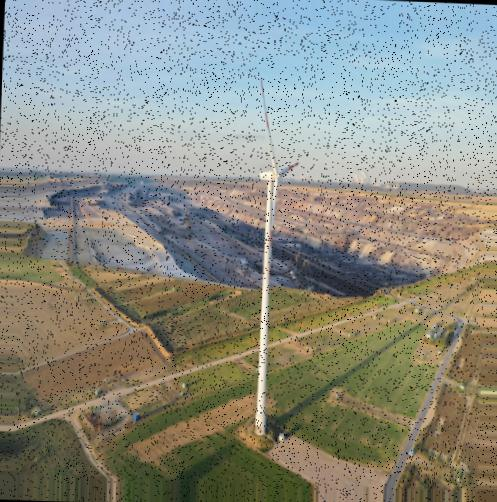wind turbine: (250, 76, 299, 438)
